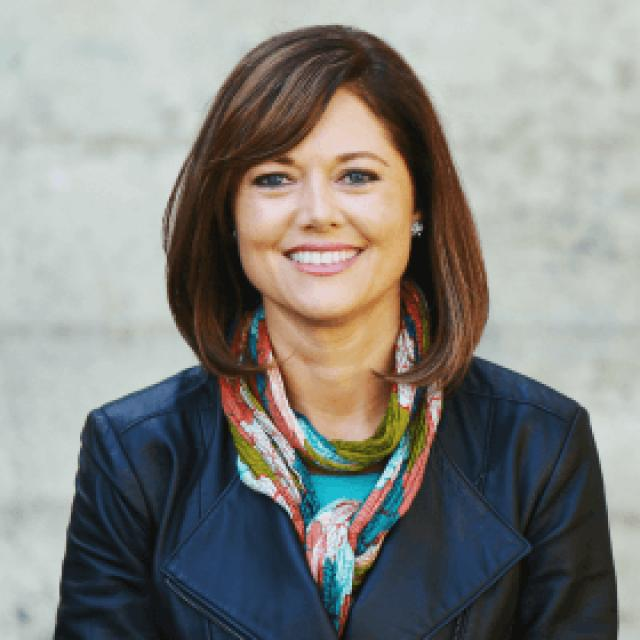human: (50, 23, 622, 640)
